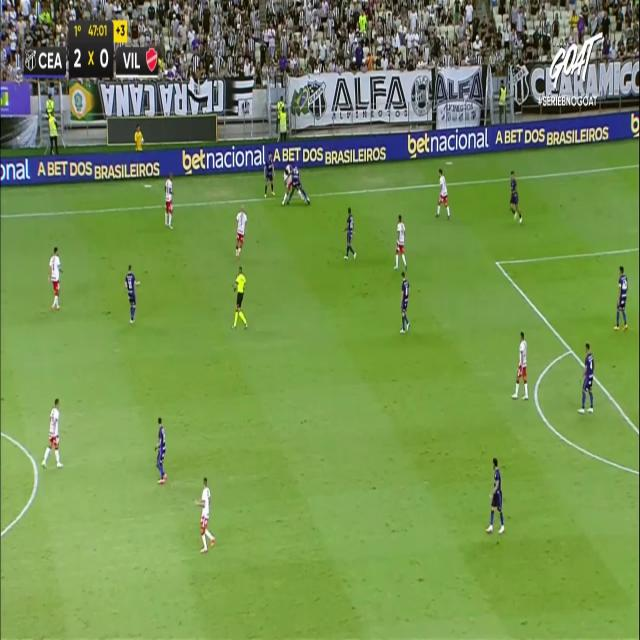player: (194, 476, 215, 553), (41, 398, 63, 468), (486, 457, 505, 533), (511, 331, 529, 399), (578, 343, 594, 413), (288, 167, 312, 210), (279, 164, 303, 206), (124, 263, 140, 323), (614, 265, 628, 330), (48, 246, 62, 310), (154, 416, 167, 484), (435, 168, 451, 219), (393, 214, 407, 271), (342, 206, 356, 260), (509, 170, 522, 223), (235, 204, 247, 257), (400, 271, 410, 334), (164, 172, 174, 229), (263, 151, 275, 198)
referee: (231, 266, 247, 330), (285, 183, 286, 186)
